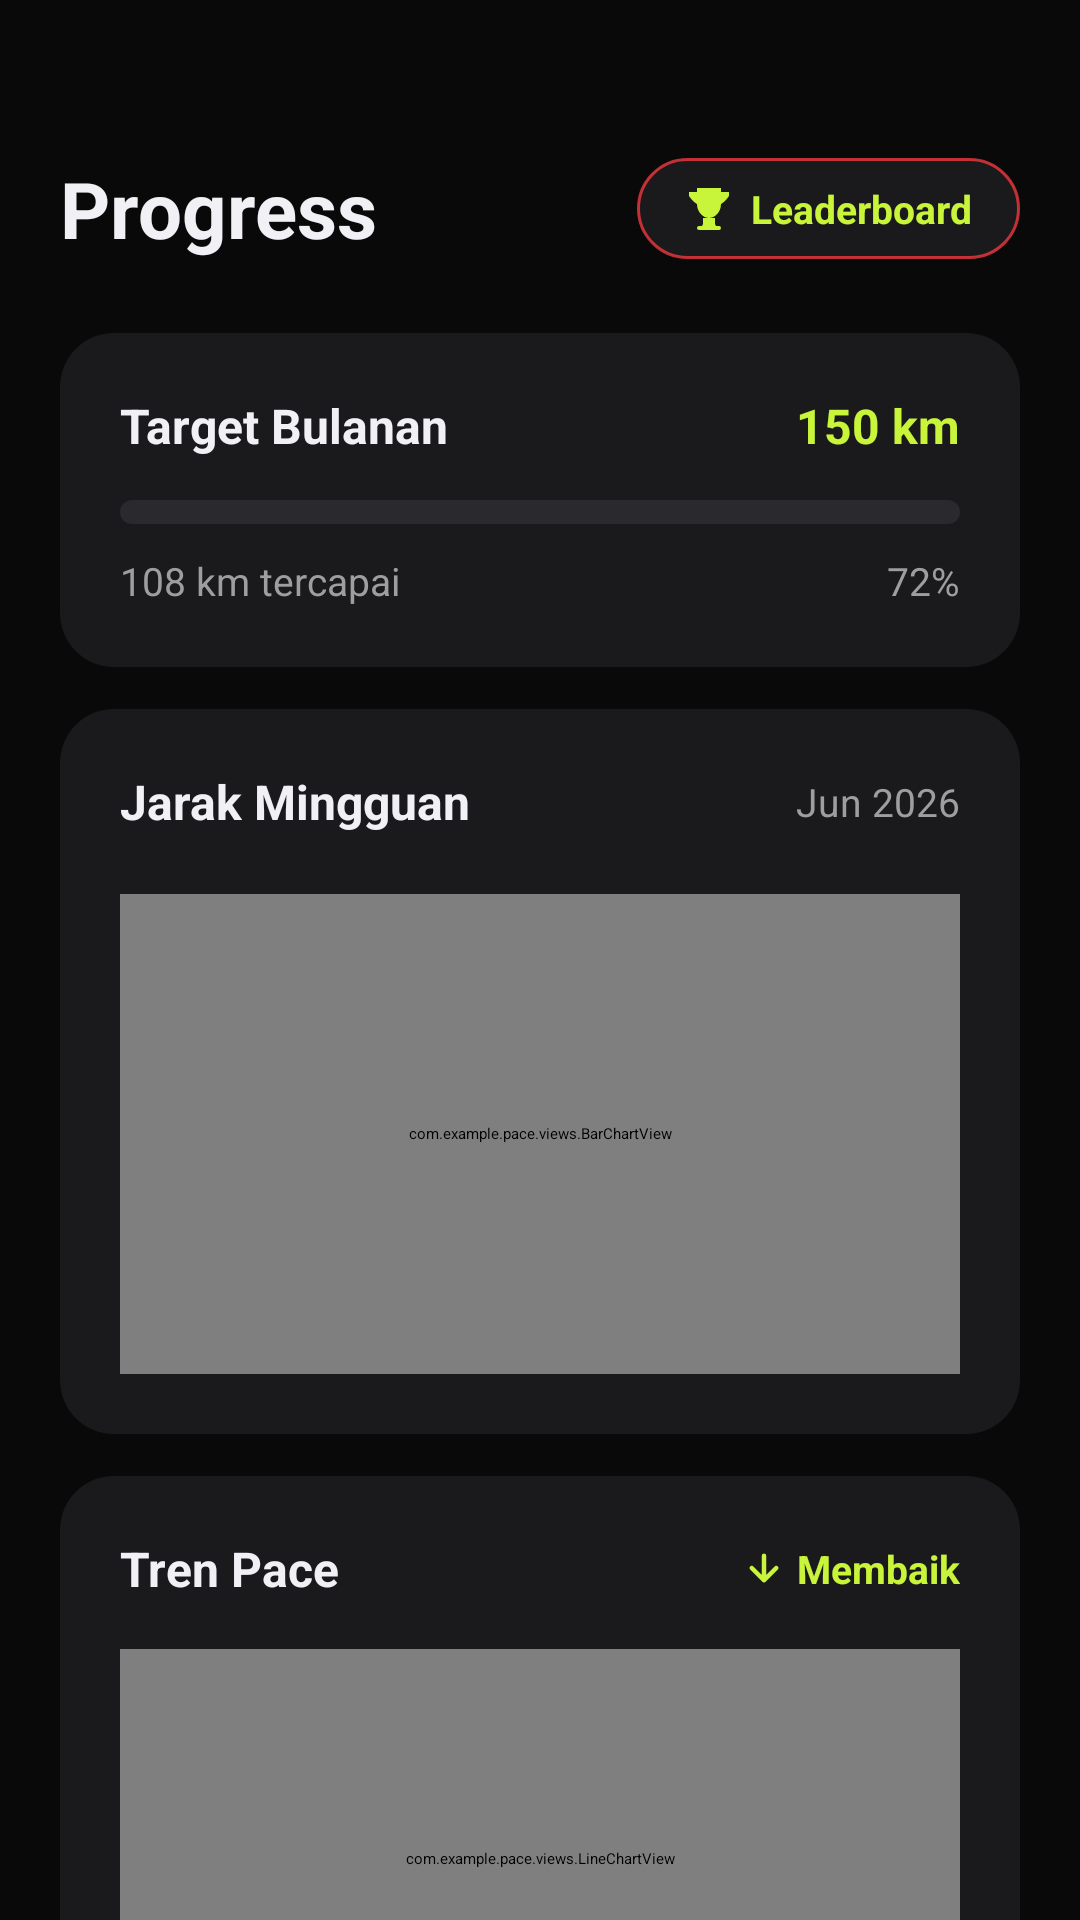

Named icons in this screenshot (1080 x 1920) and their centers, [x,y]:
Ikon Trofi: [709,209]
